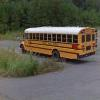Bus: (16, 24, 96, 64)
